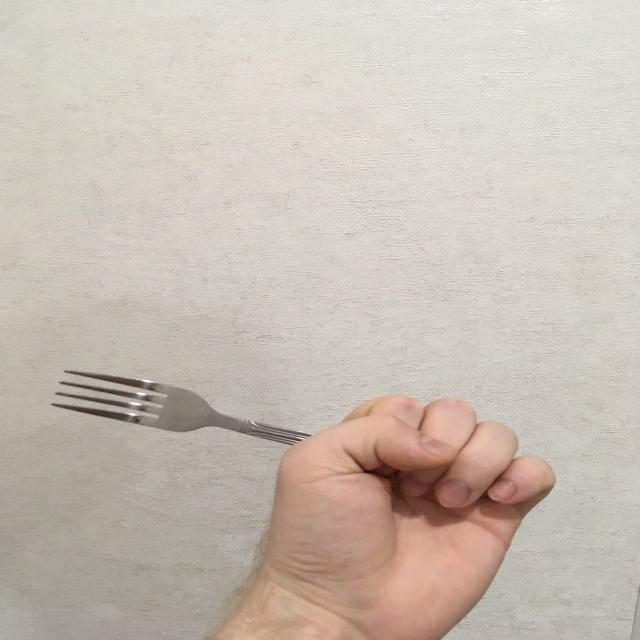fork: (50, 364, 371, 465)
